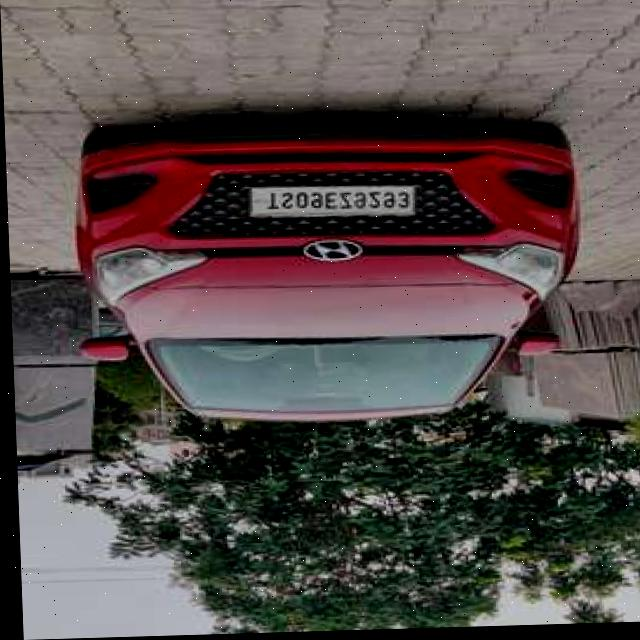plate: (241, 184, 416, 226)
